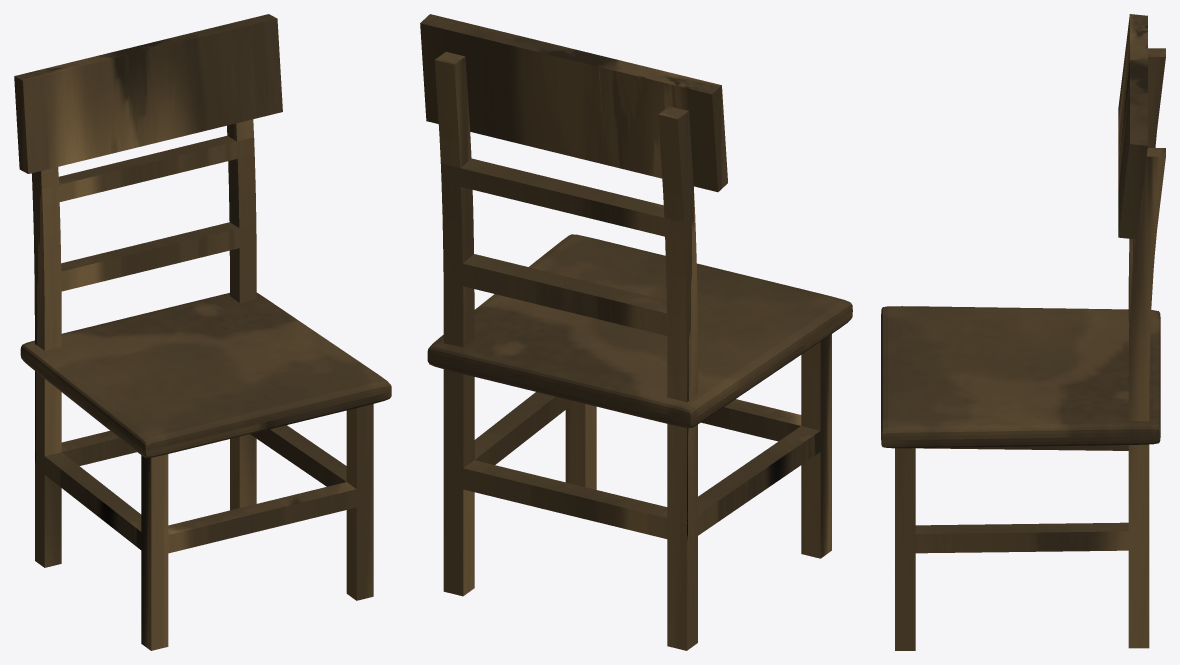
The model's file is cadeira.fbx.
3 views of the same model, side by side, from view 1: azimuth 30°, elevation 25°; view 2: azimuth 150°, elevation 25°; view 3: azimuth 270°, elevation 25° (orthographic). The views are drawn at different scales.
Visible parts, largest first — view 1: Cube.001; view 2: Cube.001; view 3: Cube.001.
Part boxes in pixels (x1=…): Cube.001: x1=14, y1=14, x2=391, y2=650; Cube.001: x1=420, y1=14, x2=852, y2=650; Cube.001: x1=881, y1=14, x2=1165, y2=650.
Bounding box in the file's own units: 0.5426 × 1 × 0.5023.
1 material, 1 textured.
